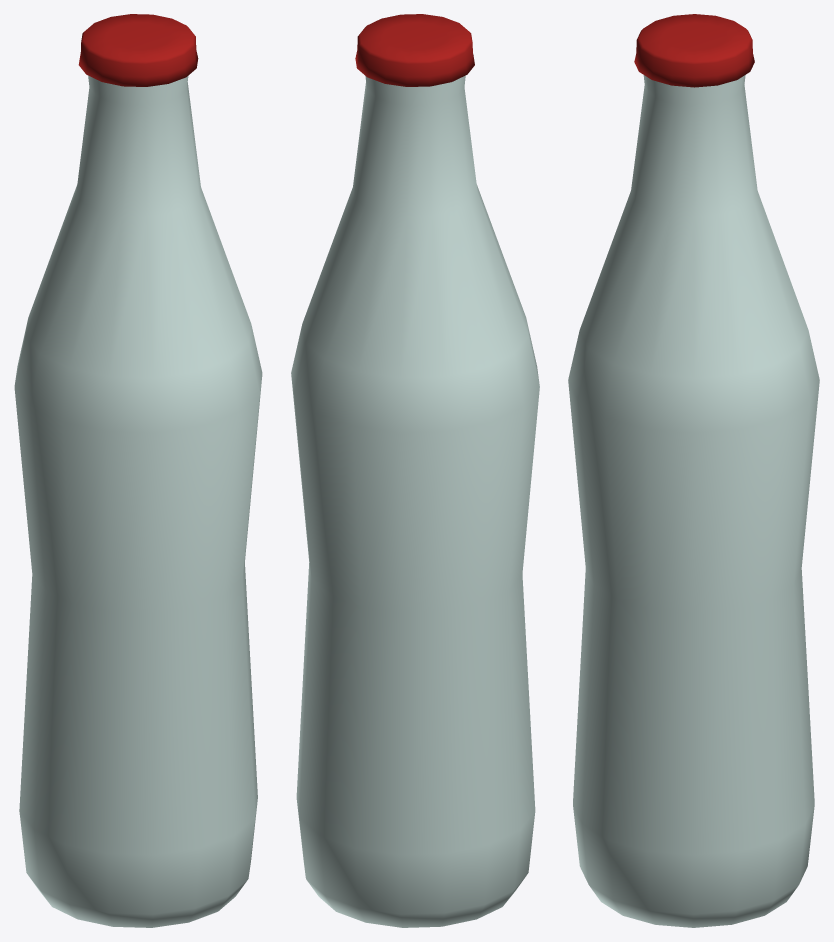
File: bottle_contour_lod2.glb
The picture shows the model from 3 angles, left to right: view 1: azimuth 30°, elevation 25°; view 2: azimuth 150°, elevation 25°; view 3: azimuth 270°, elevation 25°; orthographic projection.
Visible parts, largest first — view 1: Glass, Cap; view 2: Glass, Cap; view 3: Glass, Cap.
Part boxes in pixels (x1,y1,x2,y2): Glass: (14,75,262,927); Cap: (78,14,198,86); Glass: (291,75,539,927); Cap: (355,14,474,86); Glass: (568,75,819,927); Cap: (634,14,754,87).
Bounding box in the file's own units: 0.0622 × 0.2339 × 0.0625.
